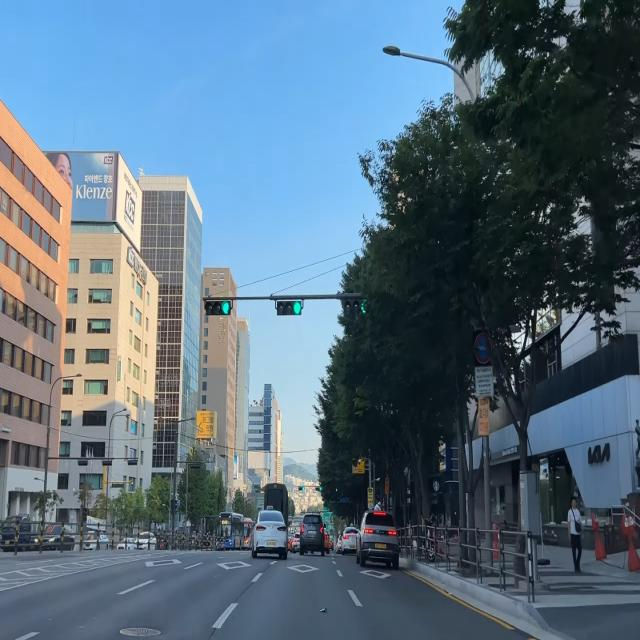Green Light: (292, 301, 302, 314), (221, 301, 230, 315)
